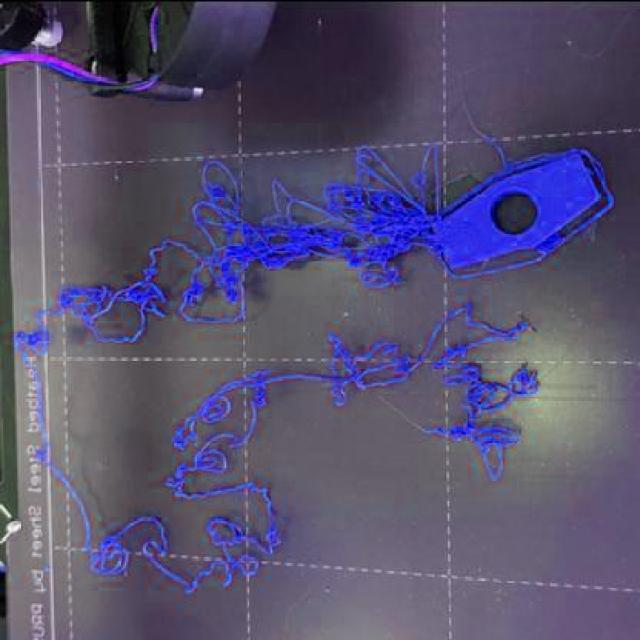Spaghetti: (9, 127, 545, 599)
